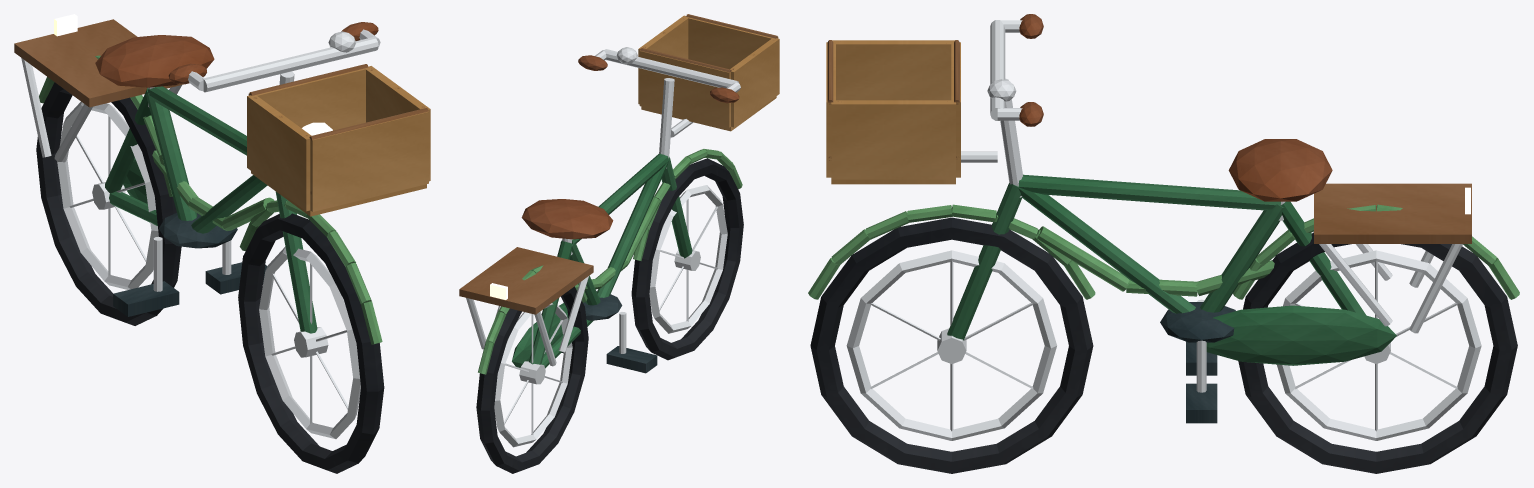
Rendered from fiets.glb.
3 views of the same model, side by side, from view 1: azimuth 30°, elevation 25°; view 2: azimuth 150°, elevation 25°; view 3: azimuth 270°, elevation 25° (orthographic). The views are drawn at different scales.
Visible parts, largest first — view 1: fiets_body, wiel_voor, wiel_achter, fiets_metal, wiel_voor_metaal, wiel_achter_metaal, fiets_lamp; view 2: fiets_body, wiel_voor, wiel_achter, fiets_metal, wiel_voor_metaal, wiel_achter_metaal; view 3: fiets_body, wiel_voor, wiel_achter, wiel_voor_metaal, wiel_achter_metaal, fiets_metal.
Boxes of the visible parts, box(x1,y1,x2,y2) form: fiets_body: box(14, 19, 430, 344); wiel_voor: box(238, 213, 384, 473); wiel_achter: box(36, 82, 181, 325); fiets_metal: box(21, 29, 380, 291); wiel_voor_metaal: box(259, 247, 360, 439); wiel_achter_metaal: box(57, 101, 158, 289); fiets_lamp: box(54, 14, 332, 135); fiets_body: box(459, 14, 779, 374); wiel_voor: box(631, 158, 743, 360); wiel_achter: box(476, 286, 588, 473); fiets_metal: box(466, 47, 740, 366); wiel_voor_metaal: box(649, 185, 727, 333); wiel_achter_metaal: box(494, 303, 572, 447); fiets_body: box(808, 14, 1519, 423); wiel_voor: box(810, 217, 1093, 473); wiel_achter: box(1238, 232, 1517, 473); wiel_voor_metaal: box(846, 250, 1056, 440); wiel_achter_metaal: box(1277, 250, 1481, 440); fiets_metal: box(961, 20, 1462, 392).
Bounding box in the file's own units: 0.61 × 1.12 × 1.71.
3 materials, 1 textured.
